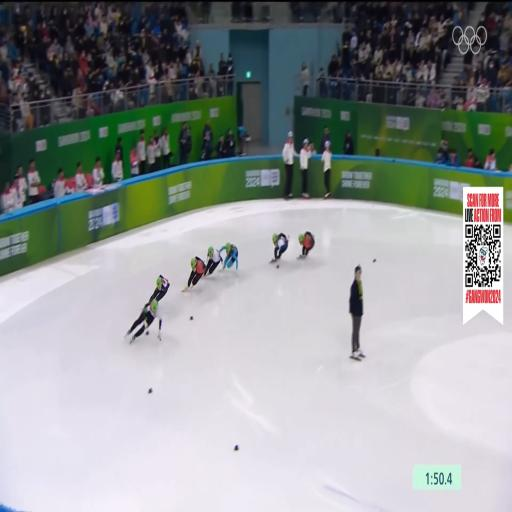Skater: (127, 300, 161, 343), (145, 275, 169, 307), (183, 257, 205, 291), (270, 233, 288, 263), (204, 247, 222, 276), (220, 243, 238, 270), (298, 231, 314, 259)
